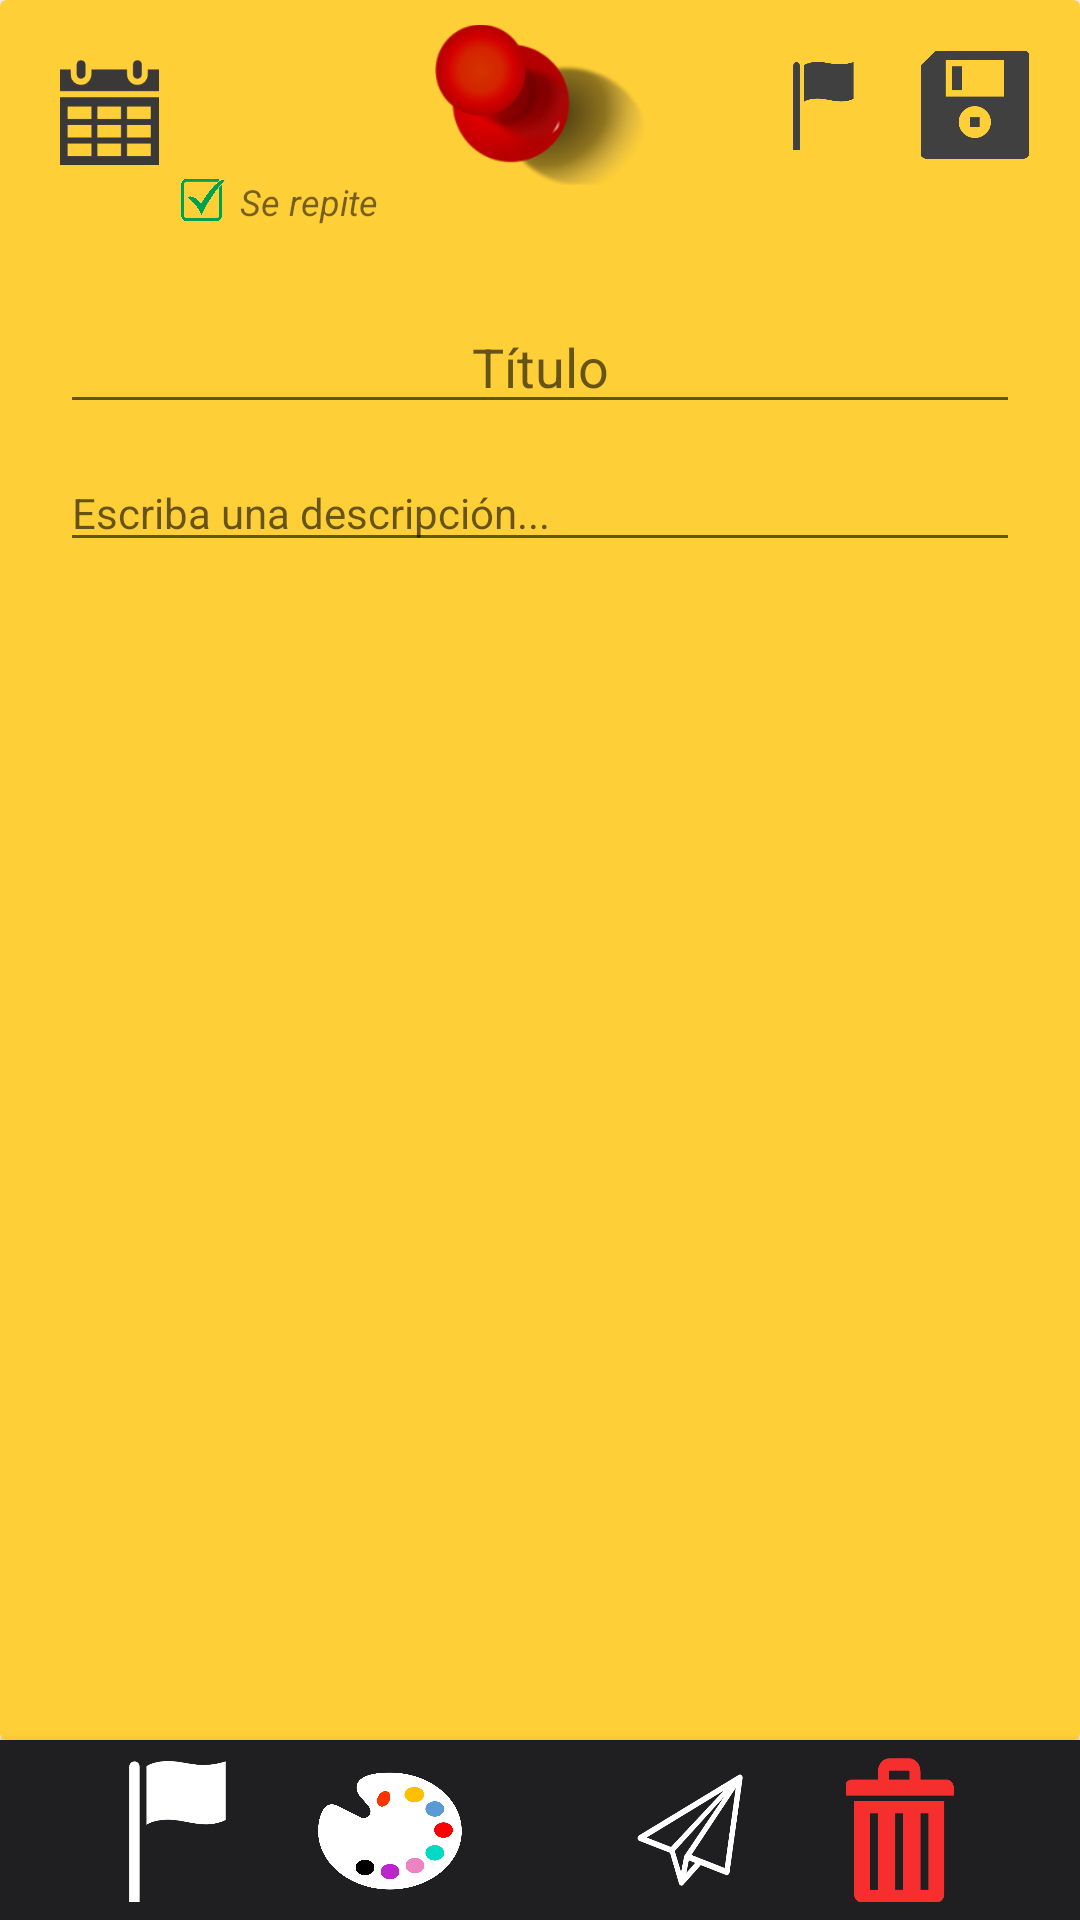

Screen size 1080x1920. Icon name, then its box in pixels as bbox=(x1, y1, x2, y2):
check: bbox=(181, 179, 225, 221)
fecha: bbox=(60, 60, 159, 165)
pin: bbox=(435, 25, 636, 183)
